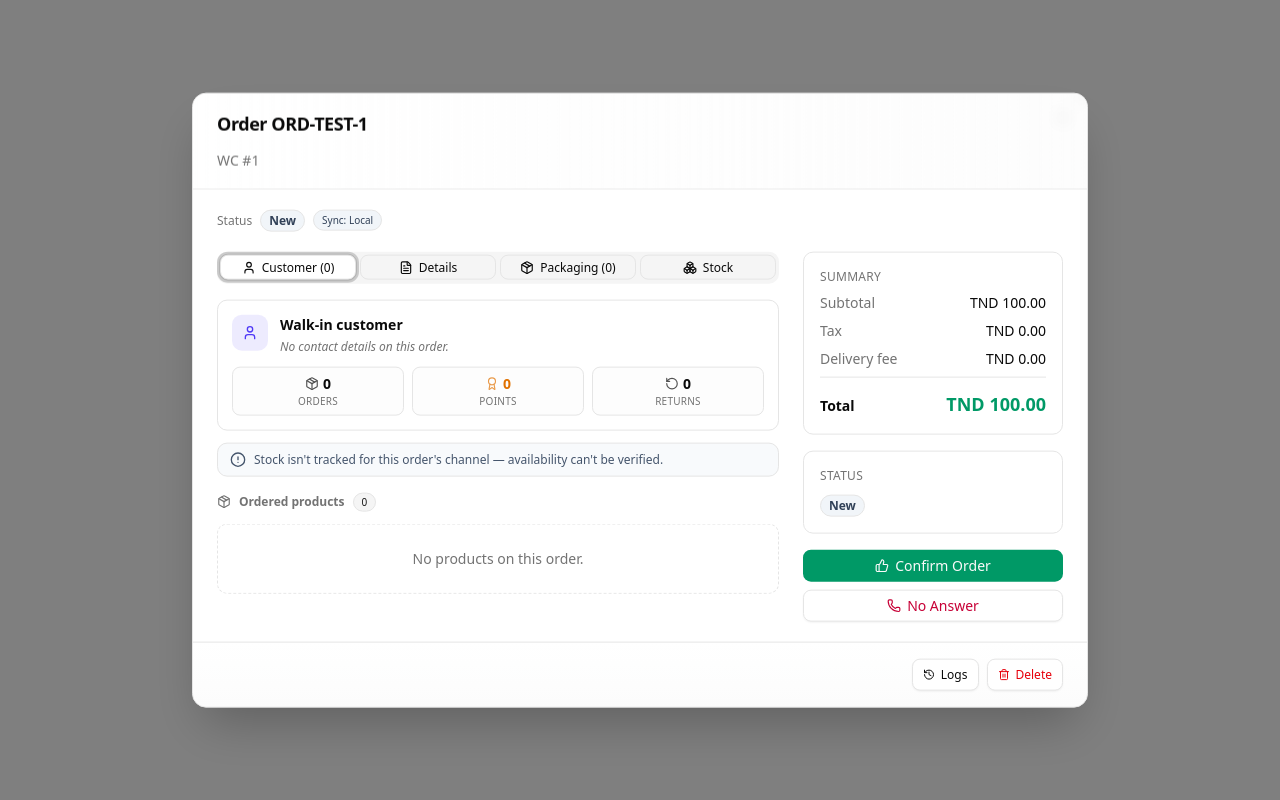
OrderDetailDialog action loading › shows a spinner only on Confirm when Confirm is clicked
The image size is (1280, 800).
Click the button "Confirm Order" at (933, 565), box left=803, top=549, right=1063, bottom=581
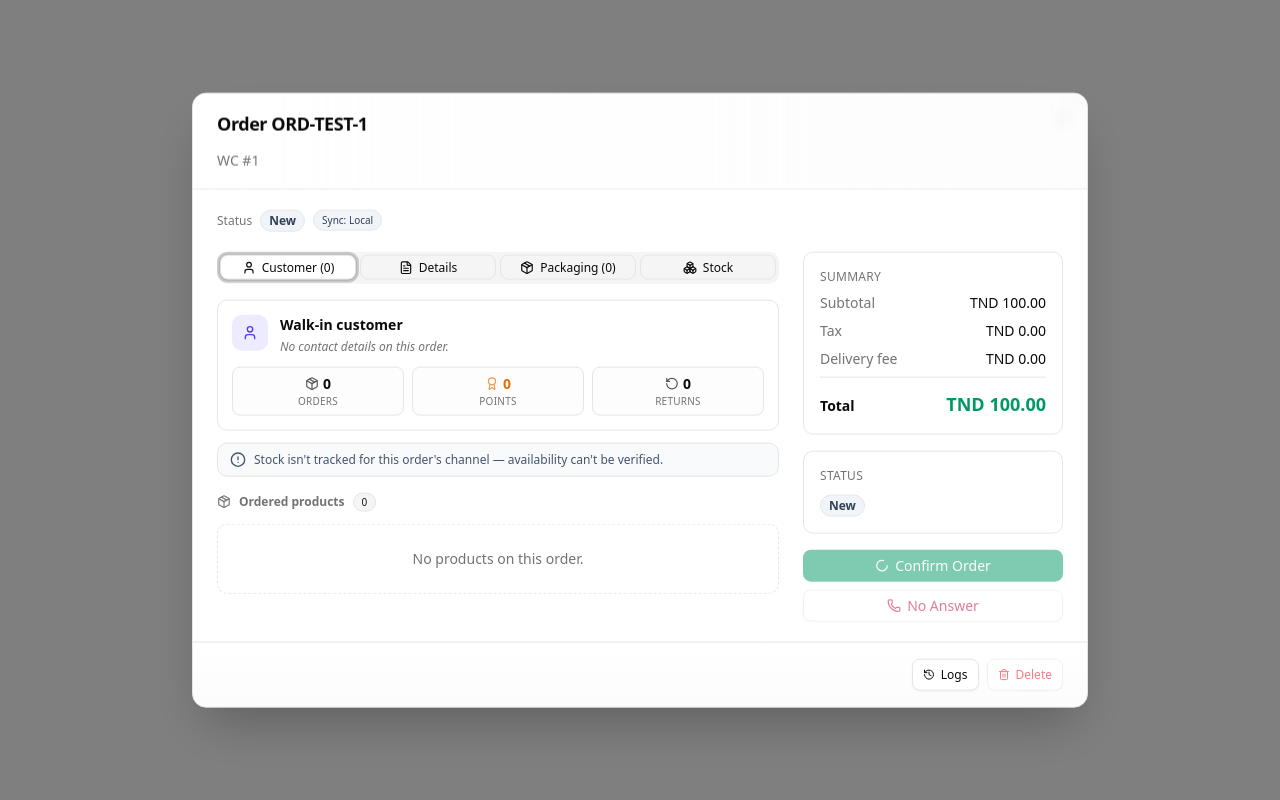
Expected: the button "Confirm Order" is disabled, left=803, top=549, right=1063, bottom=581
Expected: the icon with class "animate-spin" is shown, left=875, top=558, right=889, bottom=572
Expected: the button "Delete" is disabled, left=986, top=658, right=1063, bottom=690
